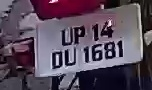1: (115, 39, 126, 60), (91, 21, 100, 43), (83, 45, 91, 67)
4: (99, 20, 114, 40)
6: (89, 42, 104, 65)
8: (103, 40, 118, 63)
D: (49, 48, 64, 70)
P: (73, 24, 87, 45)
U: (62, 48, 79, 66), (60, 26, 74, 47)
